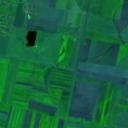alloviz: (23, 29, 38, 47)
